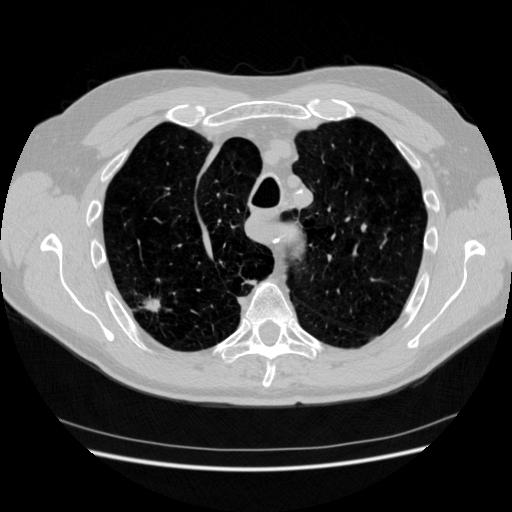nodule: (136, 292, 164, 320)
